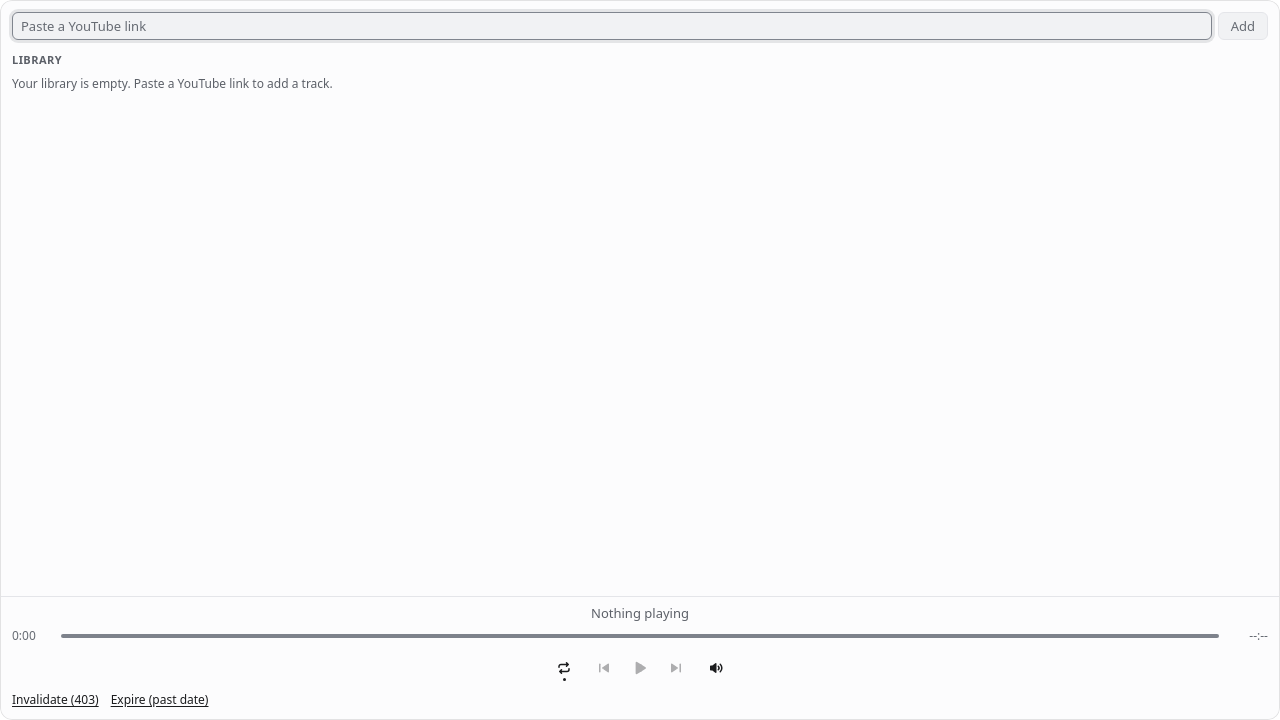
Test case: adding a track › saves it without touching the player, then clears and refocuses the field
This screenshot has width=1280, height=720.
Expected: the text "Your library is empty. Paste a YouTube link to add a track." is shown, [12,75,333,92]
Type "https://youtu.be/a" into the field named "YouTube URL" at (612, 26), box [12,12,1212,40]
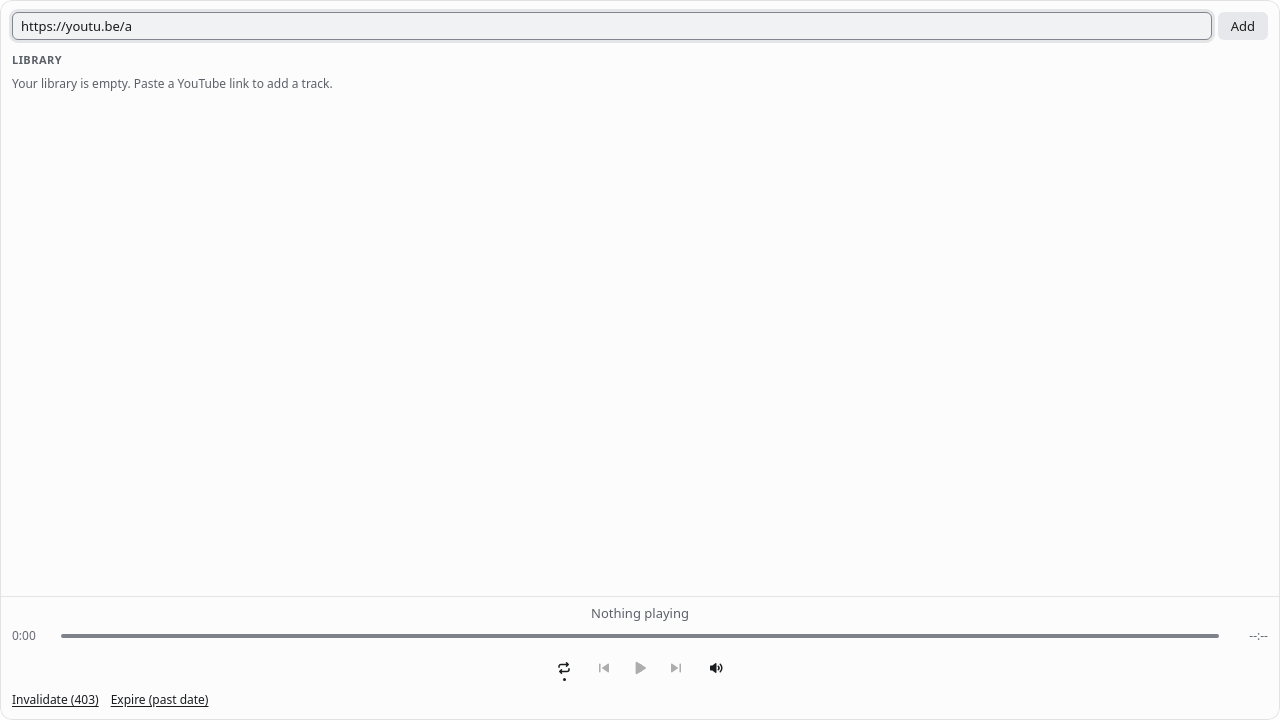
Submit the form named "YouTube URL", box [12,12,1268,40]
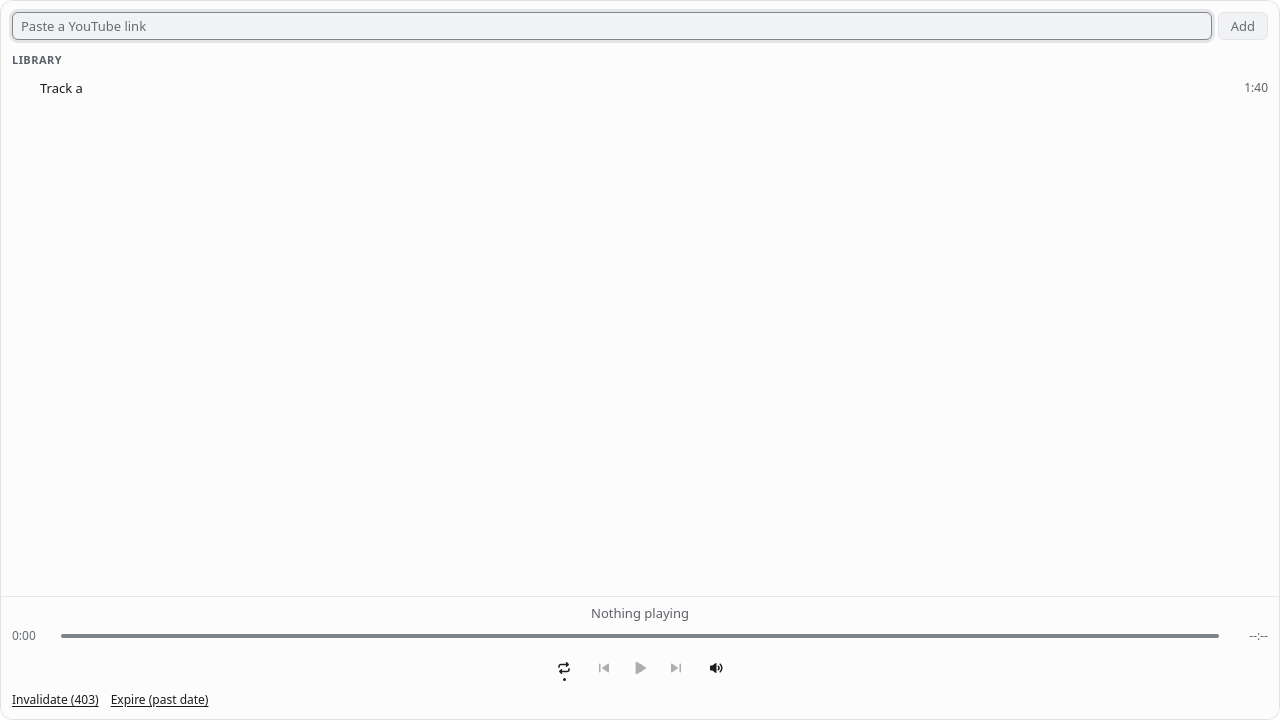
Result: the text "Track a" is shown at [40,79,83,97]
Result: the field named "YouTube URL" is empty at [12,12,1212,40]
